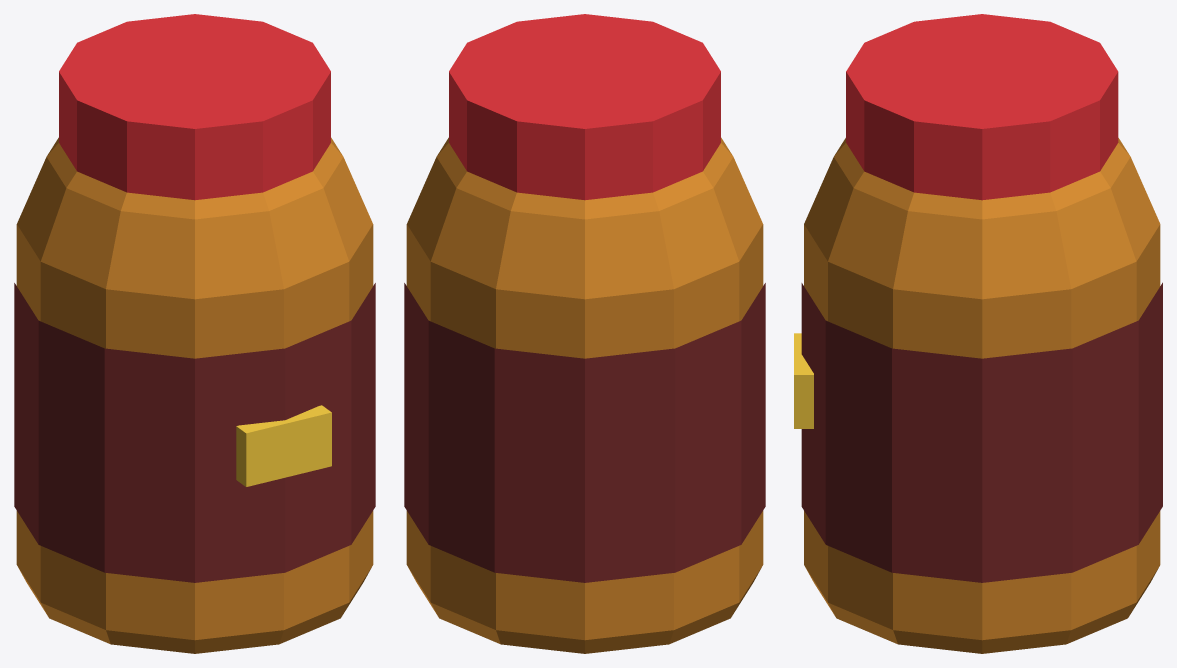
The model's file is g-curry-sauce.glb.
3 renders of one model, left to right at view 1: azimuth 30°, elevation 25°; view 2: azimuth 150°, elevation 25°; view 3: azimuth 270°, elevation 25°, orthographic.
Parts seen in each view (by area): view 1: g_curry_sauce; view 2: g_curry_sauce; view 3: g_curry_sauce.
Boxes of the visible parts, x1=… form: g_curry_sauce: x1=14, y1=14, x2=375, y2=653; g_curry_sauce: x1=404, y1=14, x2=765, y2=653; g_curry_sauce: x1=794, y1=14, x2=1162, y2=653.
Bounding box in the file's own units: 0.073 × 0.114 × 0.0745.
